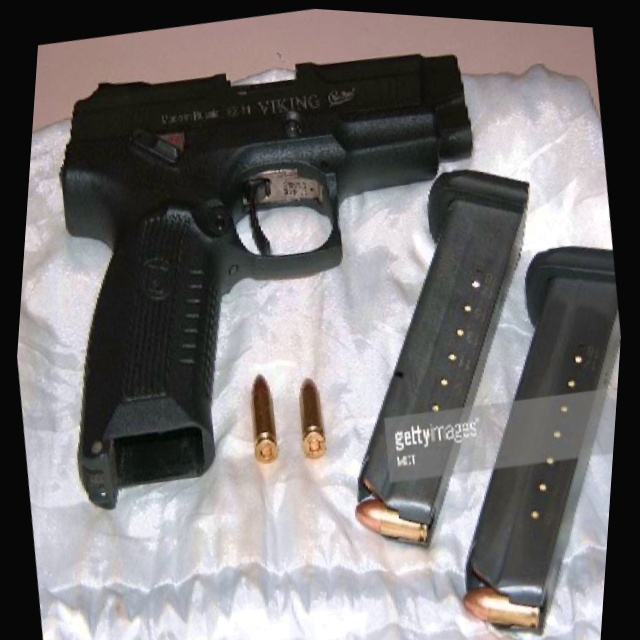gun: (9, 0, 539, 545)
